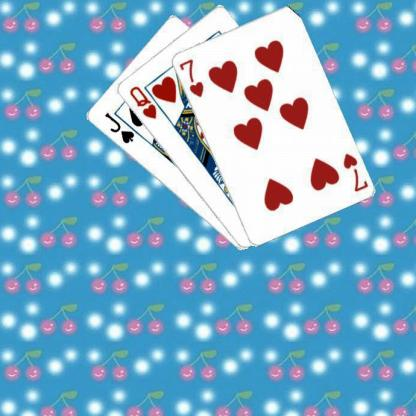7H: (176, 56, 205, 98), (340, 151, 369, 193)
JS: (102, 110, 136, 145)
QH: (126, 83, 158, 121)
